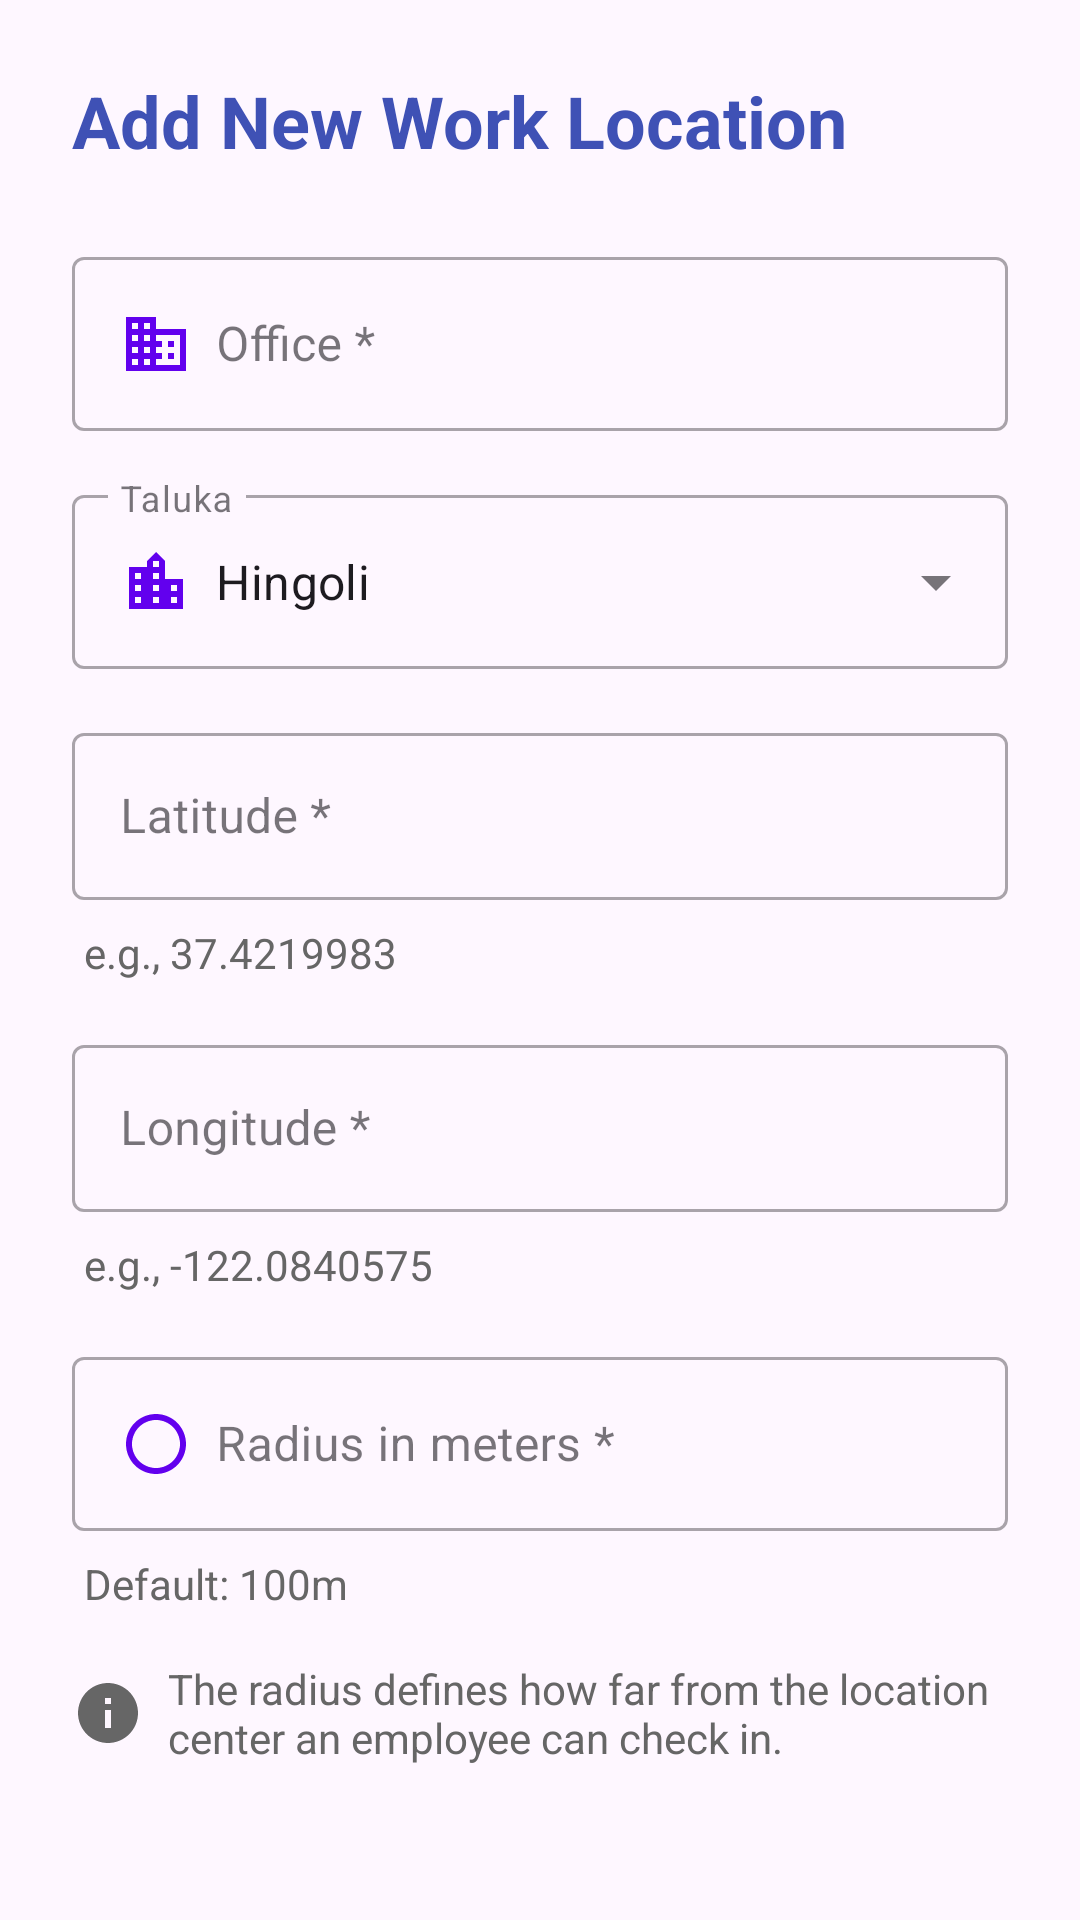

Icon click points for this 1080 × 1920 phone screenshot, format (x,y):
info: (108,1713)
